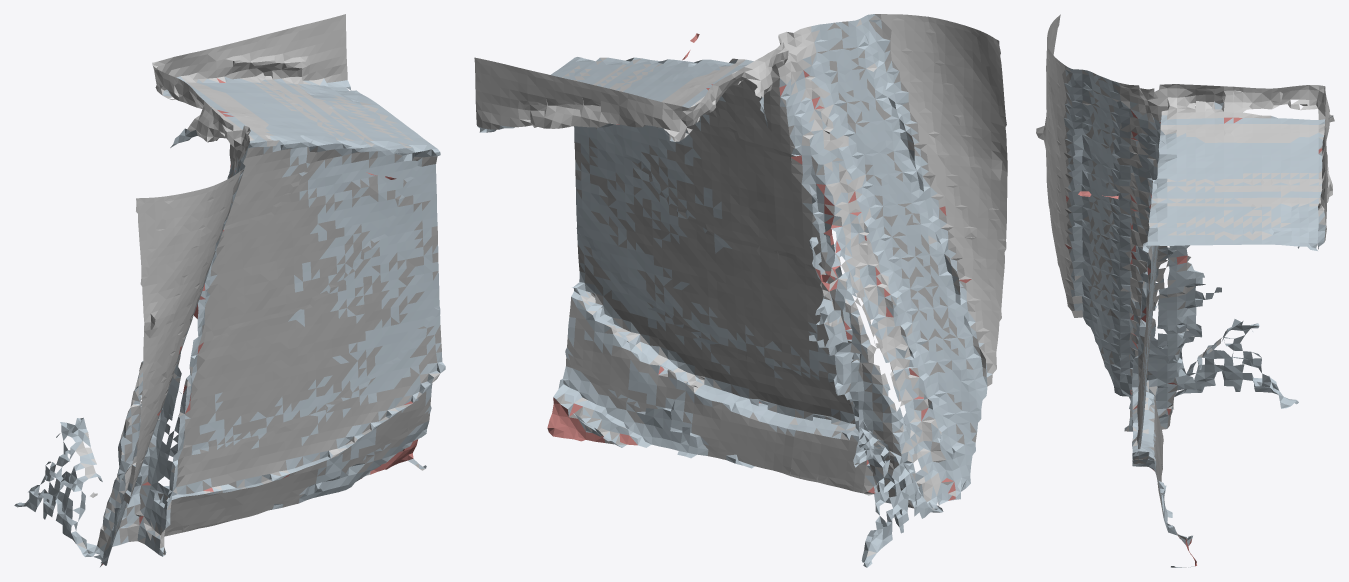
File: R1-뜬면-1__nojudge_ALS_s0__after.glb
3 views of the same model, side by side, from view 1: azimuth 30°, elevation 25°; view 2: azimuth 150°, elevation 25°; view 3: azimuth 270°, elevation 25° (orthographic). The views are drawn at different scales.
Bounding box in the file's own units: 33.44 × 36.42 × 25.28.
